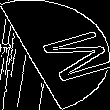M_W: (10, 24, 100, 86)
